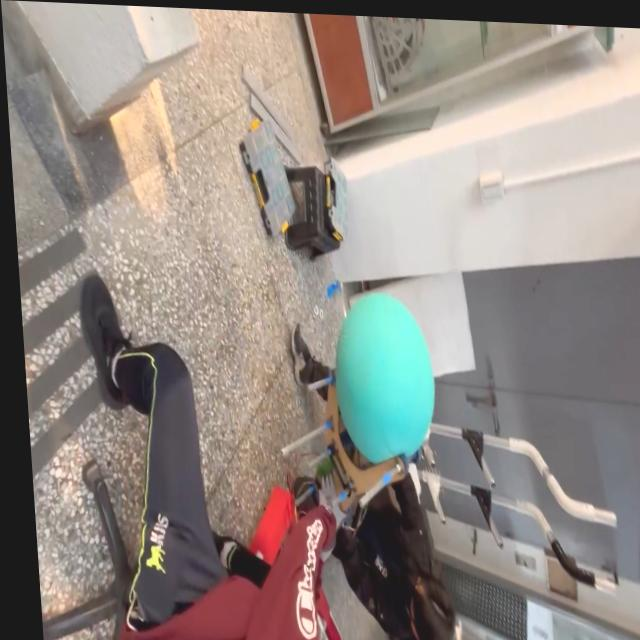ALGAE: (327, 288, 441, 468)
